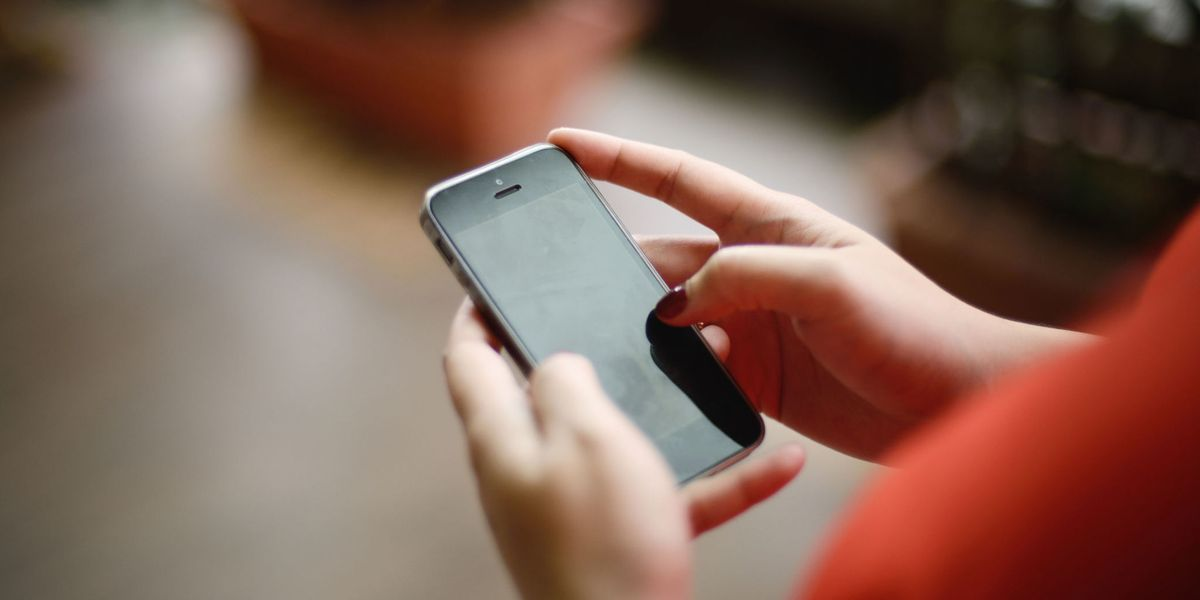non-cheating: (415, 132, 766, 500)
